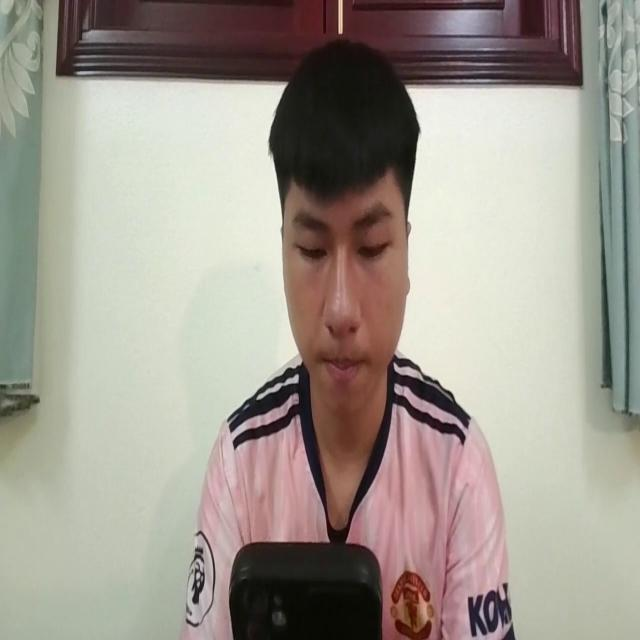phone: (221, 535, 386, 640)
student: (184, 46, 516, 640)
